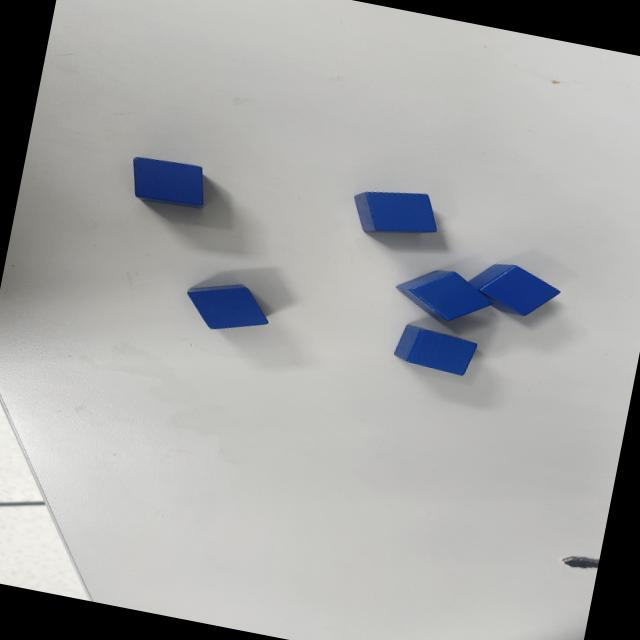blue: (392, 261, 497, 331), (463, 256, 565, 324), (180, 274, 276, 340), (349, 181, 445, 247), (392, 323, 482, 379), (124, 154, 210, 212)
